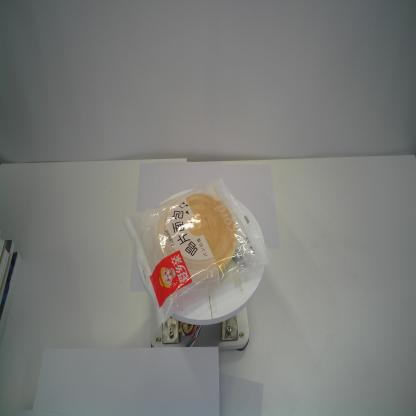Dessert: (122, 175, 274, 328)
